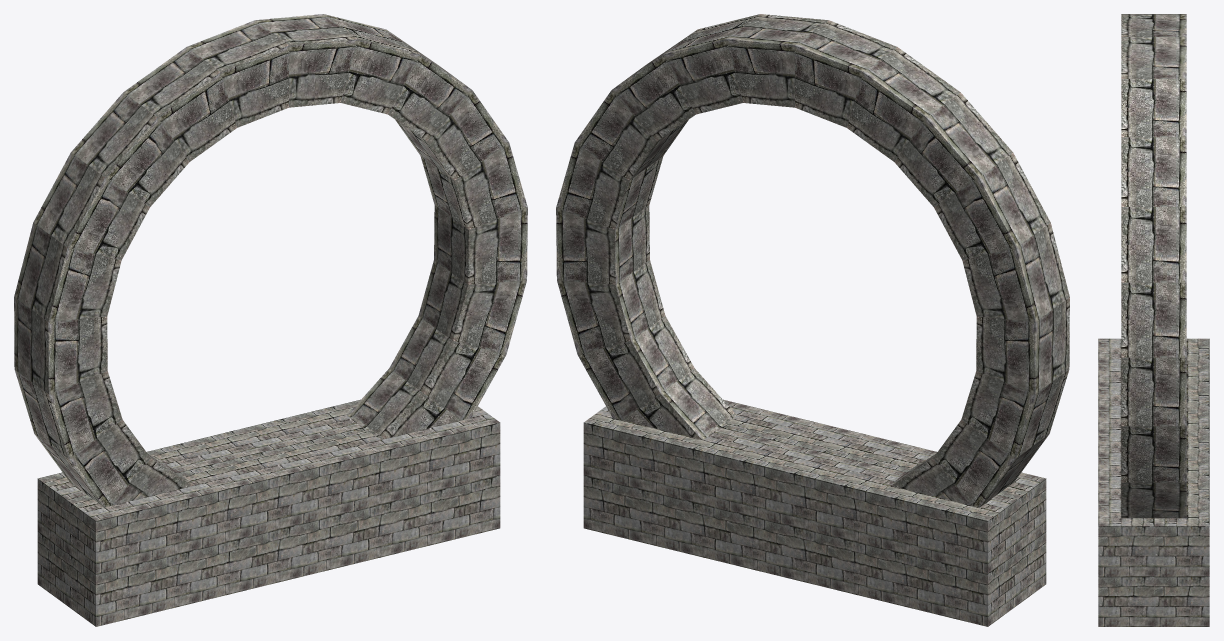
Rendered from portalOff.obj.
3 views of the same model, side by side, from view 1: azimuth 30°, elevation 25°; view 2: azimuth 150°, elevation 25°; view 3: azimuth 270°, elevation 25° (orthographic). The views are drawn at different scales.
Visible parts, largest first — view 1: Cube; view 2: Cube; view 3: Cube.
Boxes of the visible parts, x1,y1,x2,y2 form: Cube: (14, 14, 527, 626); Cube: (556, 14, 1069, 626); Cube: (1098, 14, 1209, 626).
Bounding box in the file's own units: 9.49 × 9.88 × 2.
Materials: 1 (1 with a texture image).
